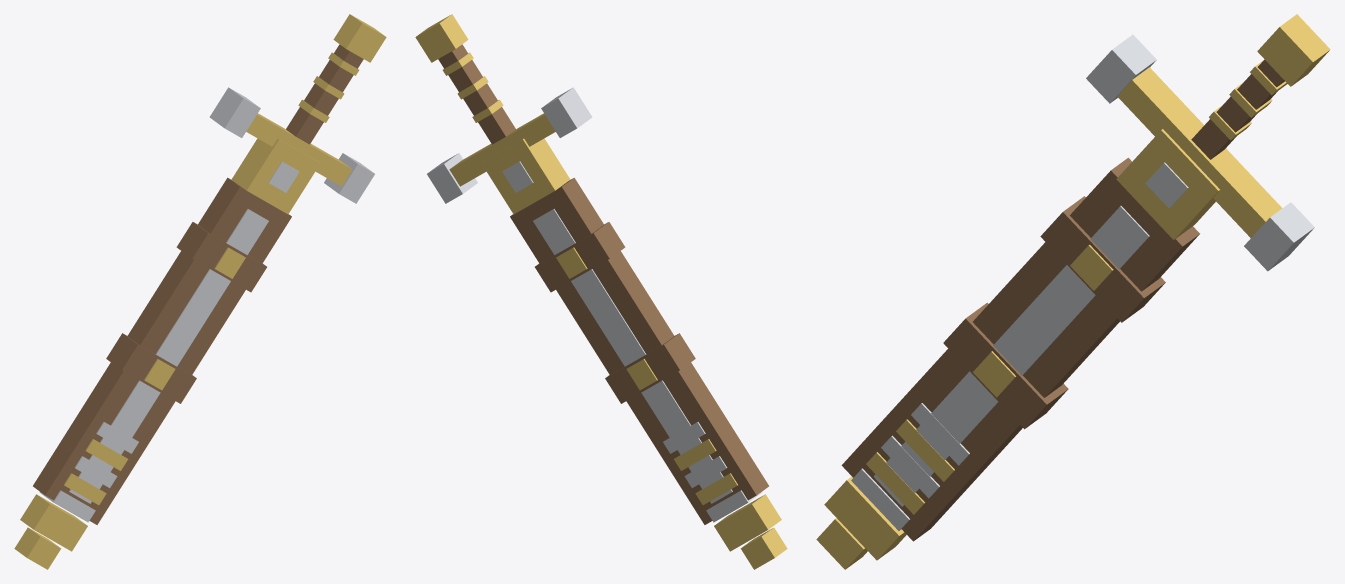
The model's file is espada_larga_cerimonial.glb.
The picture shows the model from 3 angles, left to right: view 1: azimuth 30°, elevation 25°; view 2: azimuth 150°, elevation 25°; view 3: azimuth 330°, elevation 25°; orthographic projection. The views are drawn at different scales.
Visible parts, largest first — view 1: espada_larga_cerimonial; view 2: espada_larga_cerimonial; view 3: espada_larga_cerimonial.
Boxes of the visible parts, box(x1,y1,x2,y2) form: espada_larga_cerimonial: box(14, 14, 386, 569); espada_larga_cerimonial: box(415, 14, 787, 569); espada_larga_cerimonial: box(816, 14, 1330, 569).
Size of the model in its own units: 0.8177 by 1.02 by 0.068.
